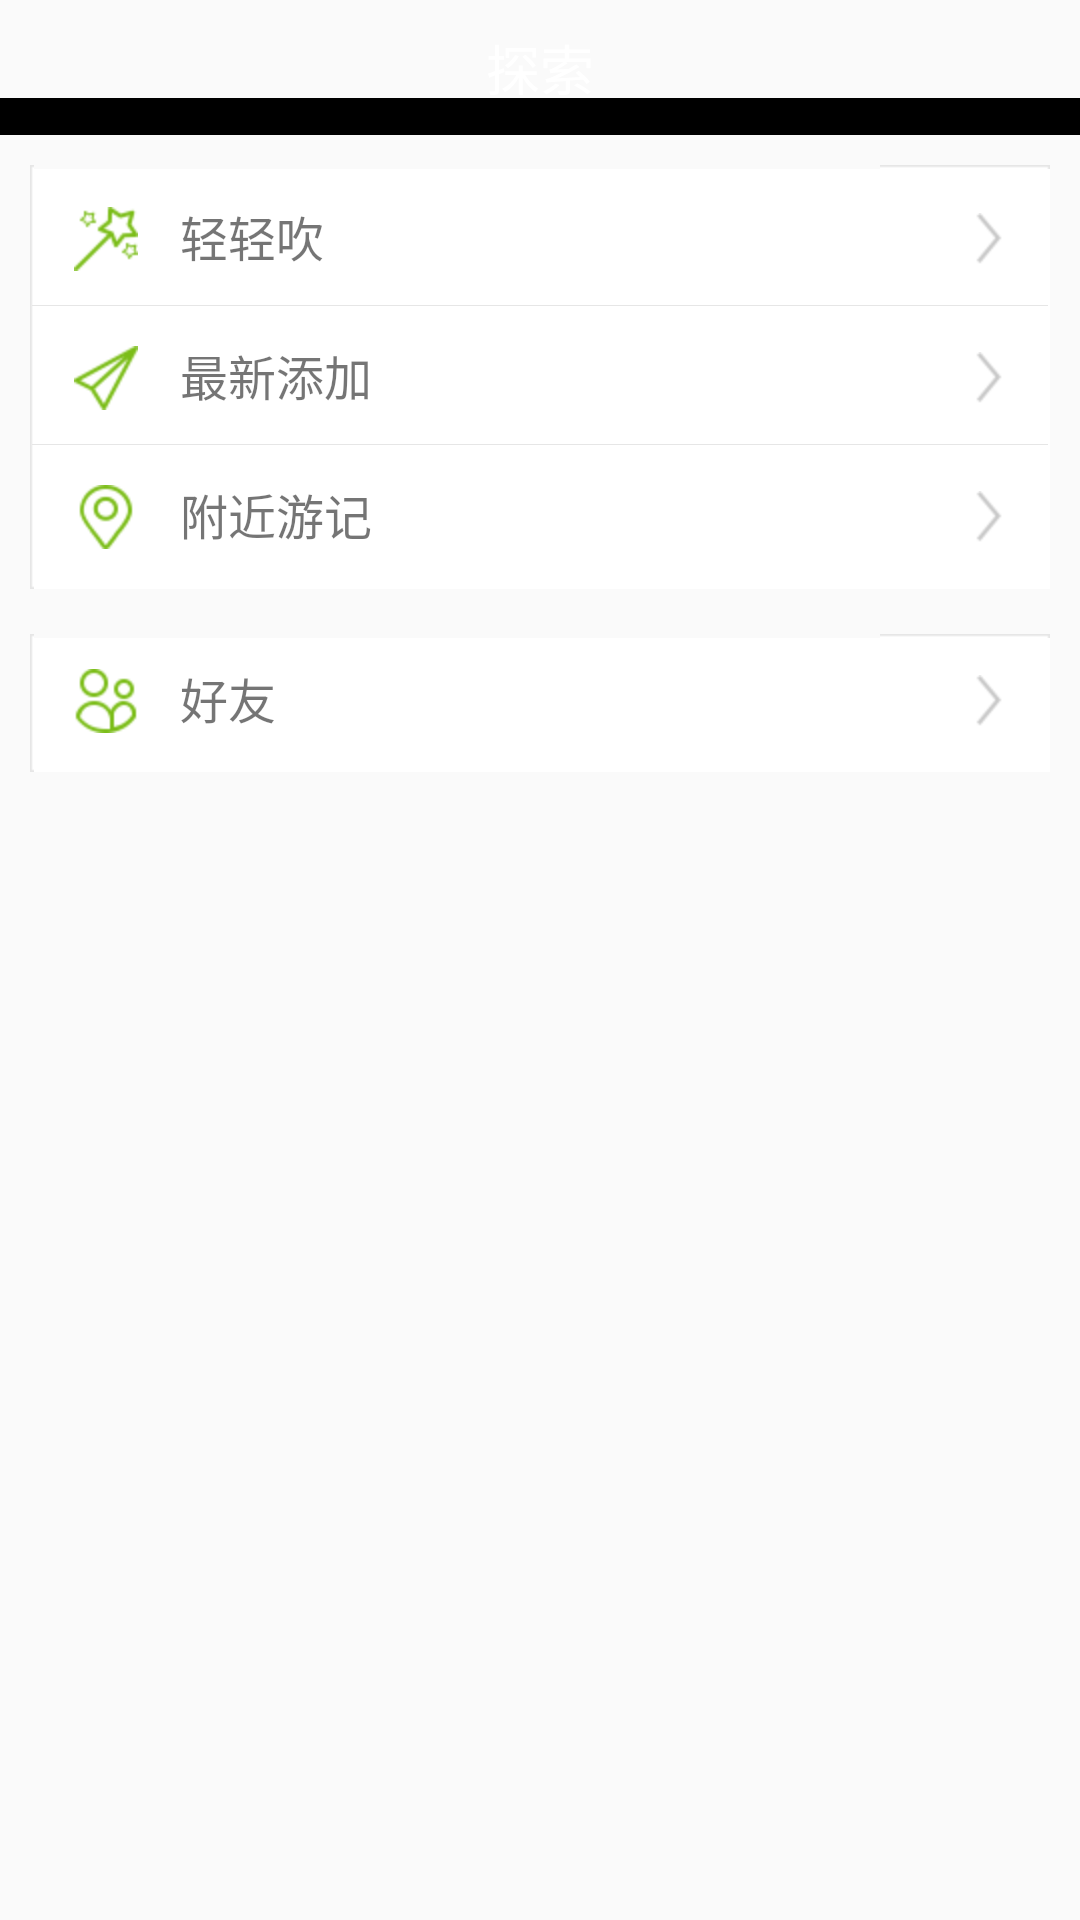

Point at icon controls on the screen. Image size 1080×1920, points as (x,y).
discover arrow: (989,238), (989,377), (989,516), (989,700)
discover blow: (106,239)
discover friends: (106,701)
discover near: (106,517)
